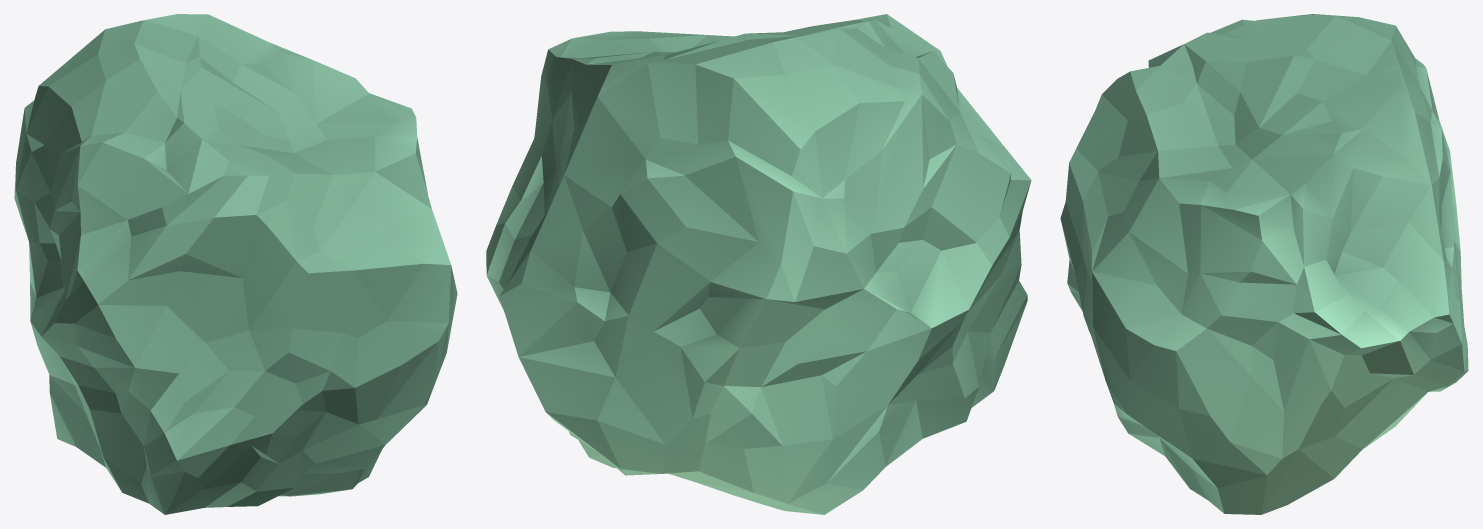
The model's file is snowparticle_anim_3_4_neg1.001.glb.
The picture shows the model from 3 angles, left to right: view 1: azimuth 30°, elevation 25°; view 2: azimuth 150°, elevation 25°; view 3: azimuth 270°, elevation 25°; orthographic projection. The views are drawn at different scales.
Parts seen in each view (by area): view 1: snowparticle_anim_3_4_neg1.001; view 2: snowparticle_anim_3_4_neg1.001; view 3: snowparticle_anim_3_4_neg1.001.
Part boxes in pixels (x1,y1,x2,y2): snowparticle_anim_3_4_neg1.001: [14, 14, 457, 514]; snowparticle_anim_3_4_neg1.001: [486, 14, 1031, 514]; snowparticle_anim_3_4_neg1.001: [1060, 14, 1468, 514].
Size of the model in its own units: 602 by 661 by 588.
